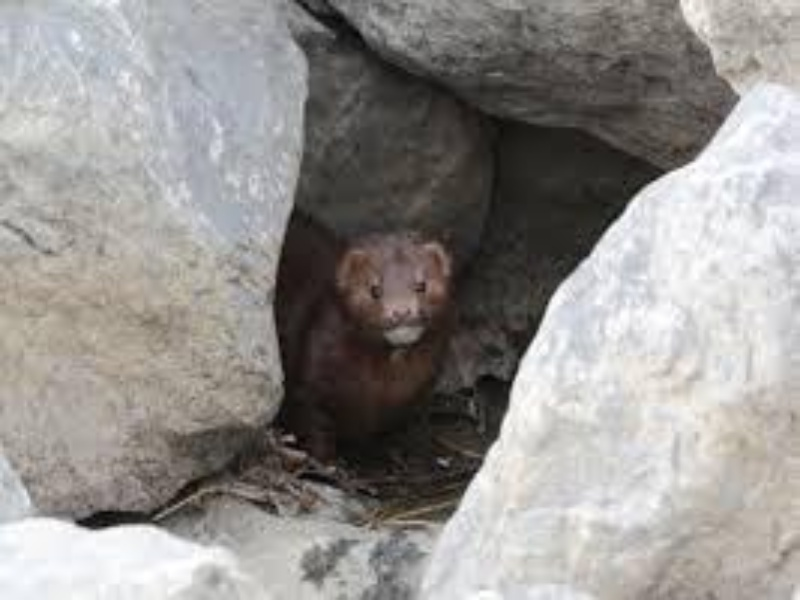minkish: (269, 225, 455, 494)
